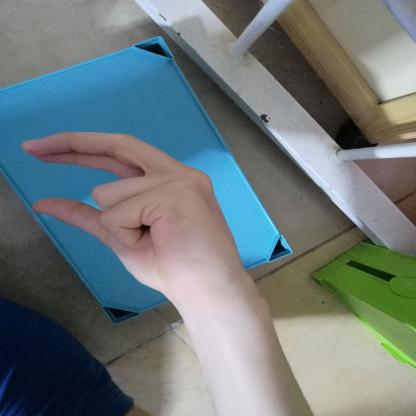DHELL: (8, 123, 255, 312)
